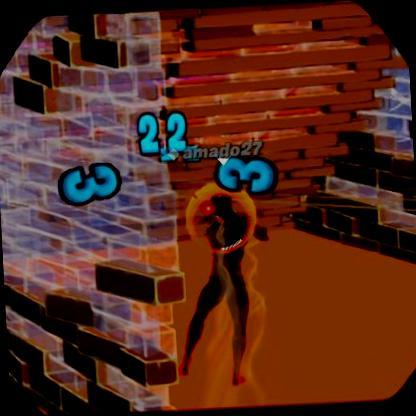person: (184, 184, 264, 366)
